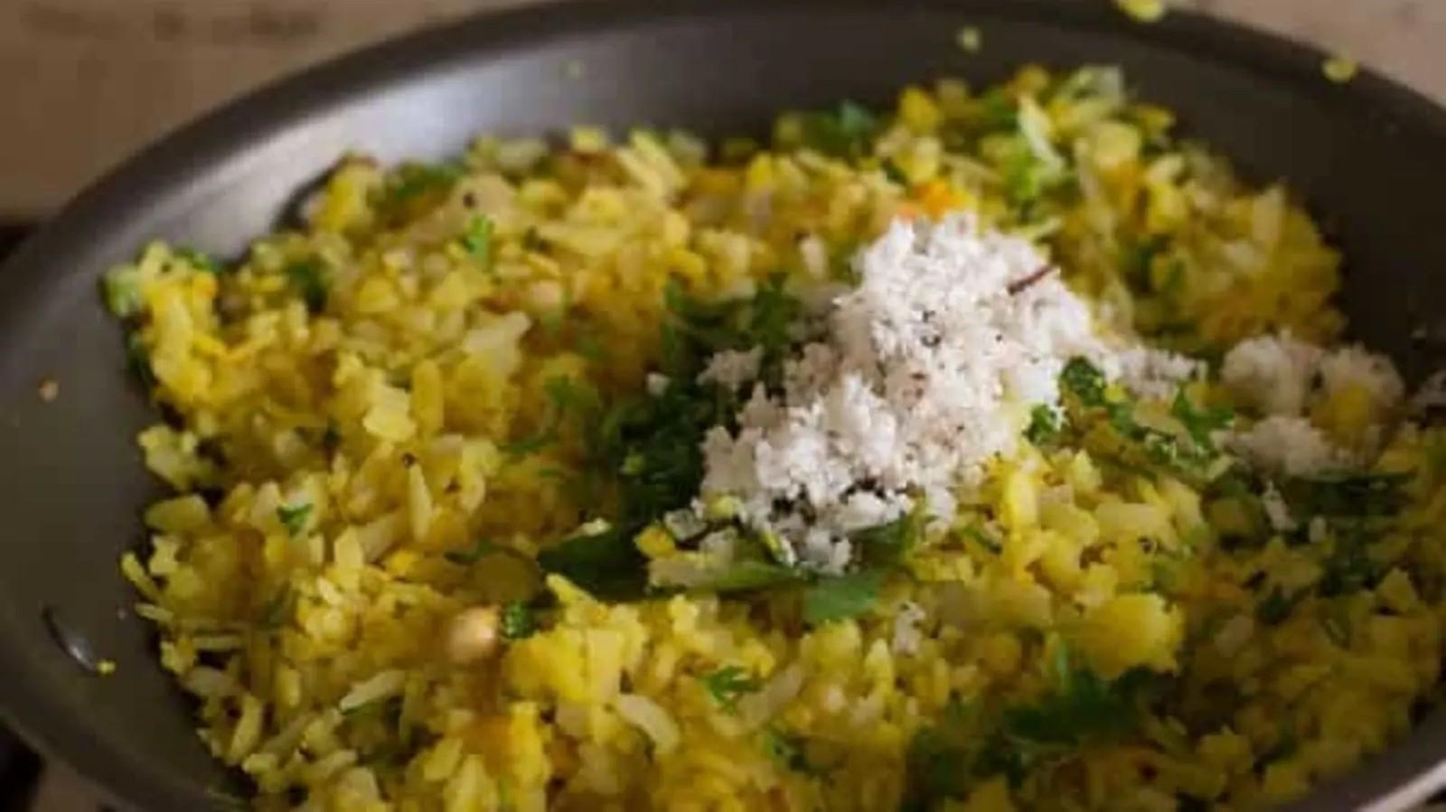Poha: (93, 58, 1446, 812)
